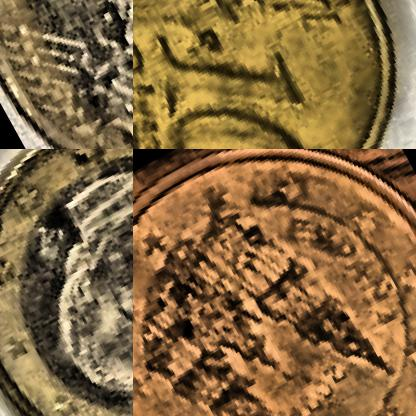coin: (133, 149, 415, 415), (133, 0, 415, 148), (0, 149, 132, 415), (0, 0, 132, 148)
